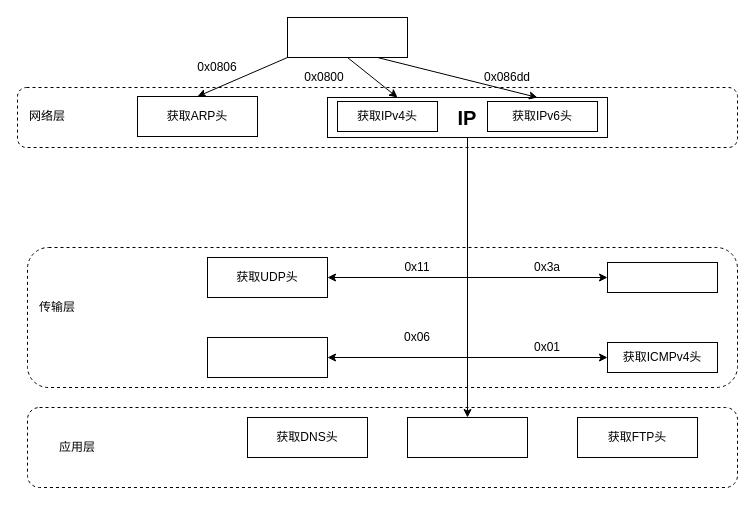
This 755x505 diagram has some shape labels left out. The shapes that lost their labels are listed below. From the top down, each one's box as (x1, y1, x2, y2) in pixels, then its label:
(286, 16, 408, 58): 获取MAC头
(606, 262, 718, 292): 获取ICMPv6头
(206, 336, 328, 378): 获取TCP头
(406, 416, 528, 458): 获取HTTP头
